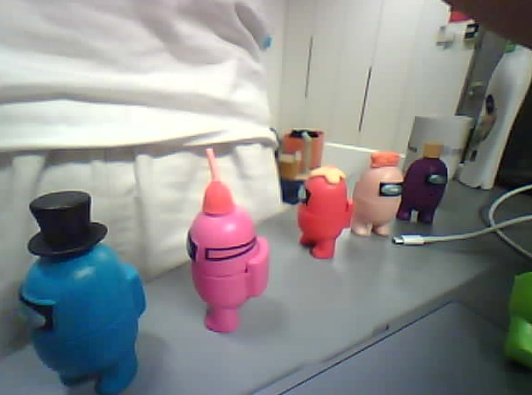alive: (15, 238, 148, 395), (185, 198, 271, 338), (296, 165, 354, 262), (351, 150, 403, 241), (396, 150, 450, 228)
